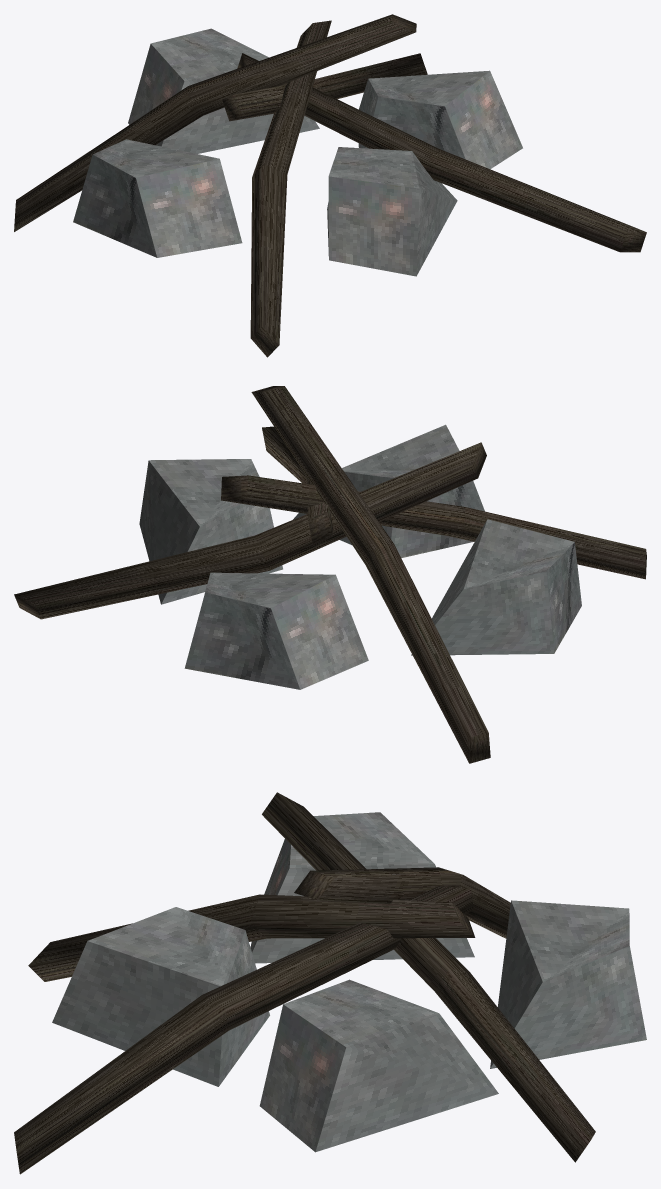
The model's file is campfire.glb.
The picture shows the model from 3 angles, top to bottom: view 1: azimuth 30°, elevation 25°; view 2: azimuth 150°, elevation 25°; view 3: azimuth 270°, elevation 25°; orthographic projection. The views are drawn at different scales.
Visible parts, largest first — view 1: rock.001, rock.004, stick.004, stick.002, rock.003, stick.001, rock.002, stick.003; view 2: rock.002, rock.001, stick.003, stick.004, rock.003, stick.001, rock.004, stick.002; view 3: rock.003, rock.004, rock.002, stick.002, stick.003, stick.001, rock.001, stick.004.
Boxes of the visible parts, bbox=[...] form: rock.001: bbox=[73, 139, 242, 257]; rock.004: bbox=[327, 147, 457, 276]; stick.004: bbox=[14, 14, 416, 231]; stick.002: bbox=[237, 53, 646, 252]; rock.003: bbox=[358, 70, 522, 169]; stick.001: bbox=[250, 20, 331, 357]; rock.002: bbox=[128, 28, 319, 153]; stick.003: bbox=[222, 53, 427, 121]; rock.002: bbox=[184, 572, 368, 689]; rock.001: bbox=[411, 519, 581, 655]; stick.003: bbox=[14, 442, 486, 619]; stick.004: bbox=[251, 386, 490, 763]; rock.003: bbox=[139, 459, 282, 604]; stick.001: bbox=[221, 475, 646, 579]; rock.004: bbox=[293, 424, 484, 557]; stick.002: bbox=[262, 426, 332, 542]; rock.003: bbox=[259, 979, 498, 1152]; rock.004: bbox=[52, 907, 269, 1086]; rock.002: bbox=[490, 900, 646, 1068]; stick.002: bbox=[14, 886, 473, 1174]; stick.003: bbox=[262, 792, 595, 1162]; stick.001: bbox=[28, 894, 475, 981]; rock.001: bbox=[250, 812, 474, 963]; stick.004: bbox=[294, 867, 510, 938].
Bounding box in the file's own units: 0.4725 × 0.2217 × 0.4841.
8 materials, 8 textured.
